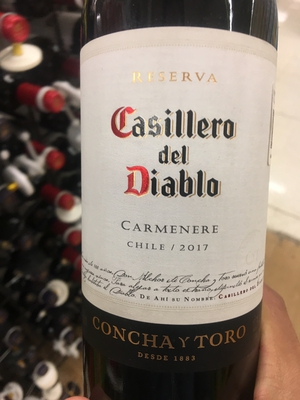casillero del diablo carmenere: (72, 8, 293, 400)
